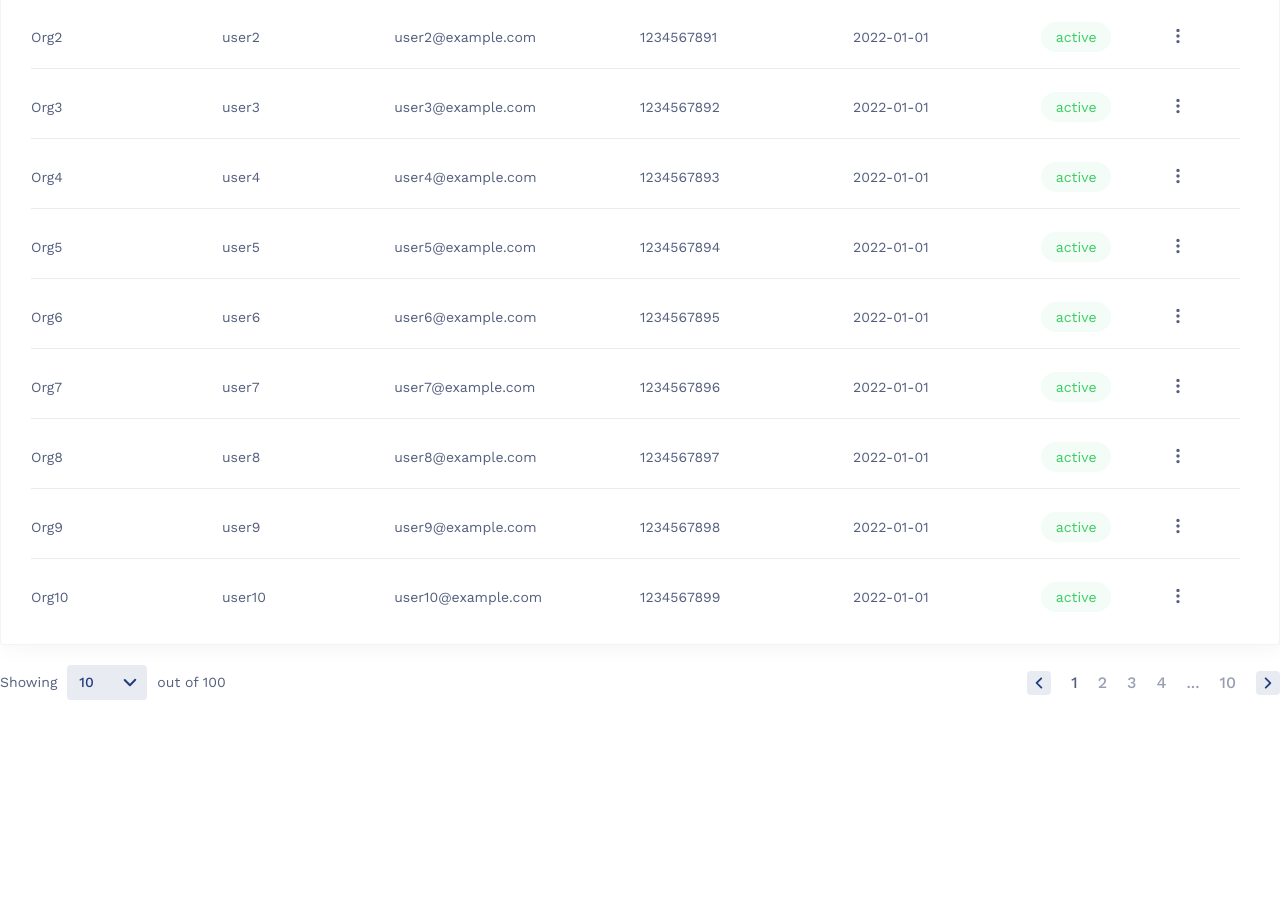
Test case: Users component › navigates to the next page when the next button is clicked
(page scrolled)
Click the button named "next". click: (1268, 683)
box: [1256,671,1279,695]
(page scrolled)
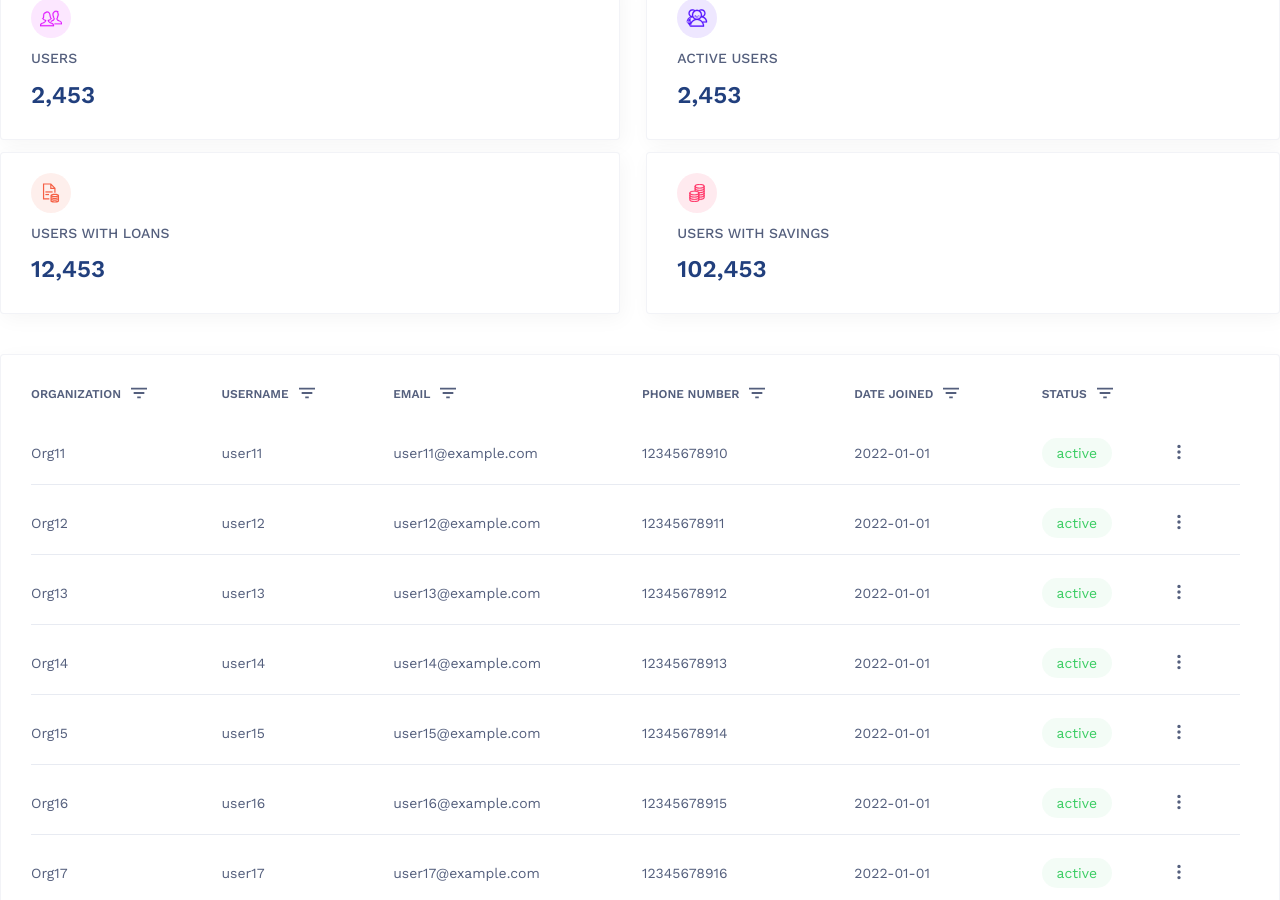
Check: the text "user11" is shown, box [186,415,358,485]
